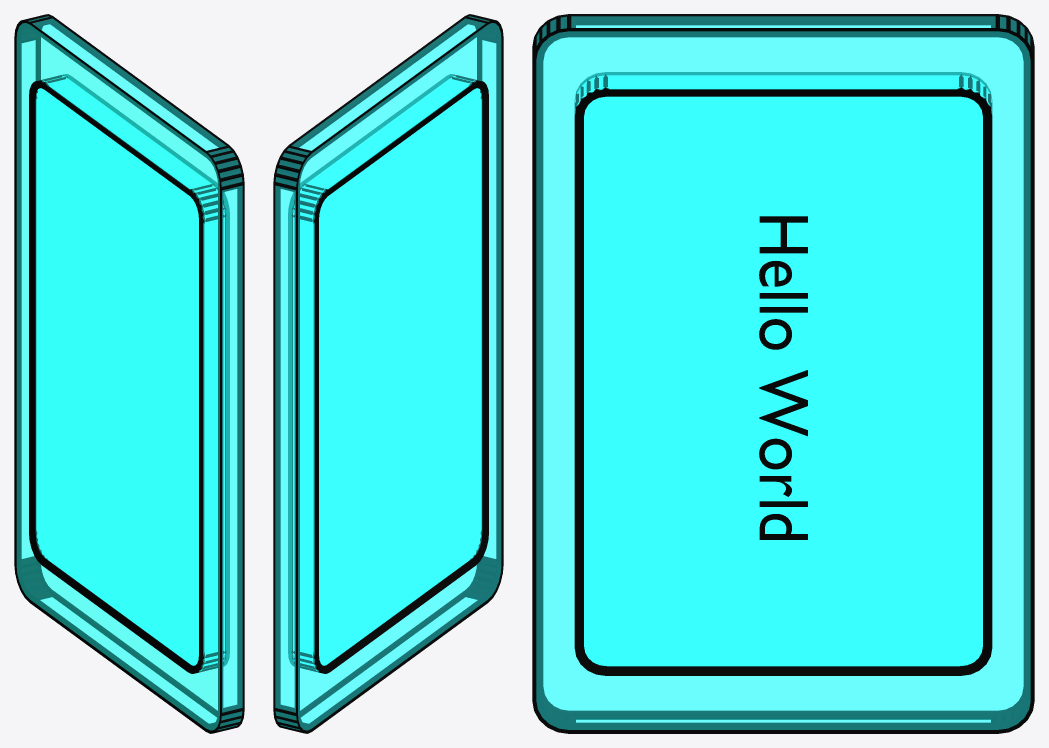
File: emissive outer_nk1.fbx
3 renders of one model, left to right at view 1: azimuth 30°, elevation 25°; view 2: azimuth 150°, elevation 25°; view 3: azimuth 270°, elevation 25°, orthographic. The views are drawn at different scales.
Visible parts, largest first — view 1: State1: Translucent Design.001; view 2: State1: Translucent Design.001; view 3: State1: Translucent Design.001.
Part boxes in pixels (<box>): State1: Translucent Design.001: <box>14,14,244,733</box>; State1: Translucent Design.001: <box>273,14,503,733</box>; State1: Translucent Design.001: <box>532,14,1034,733</box>.
Size of the model in its own units: 0.5836 by 11.05 by 7.13.
